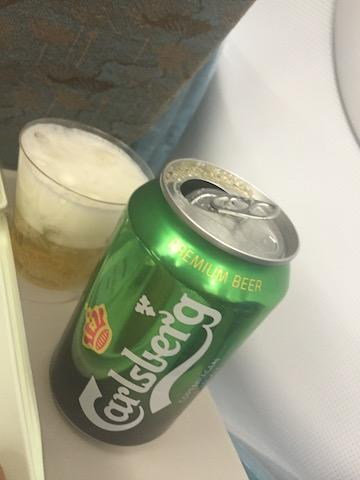metal: (51, 159, 299, 446)
